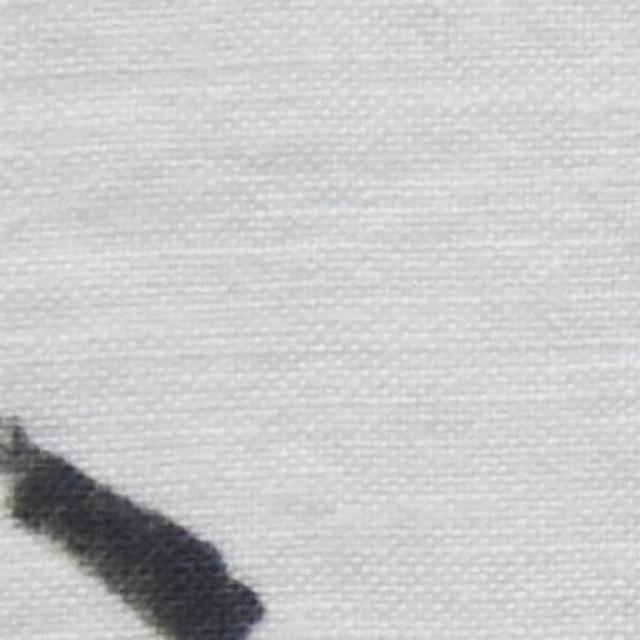Stain: (0, 411, 268, 640)
